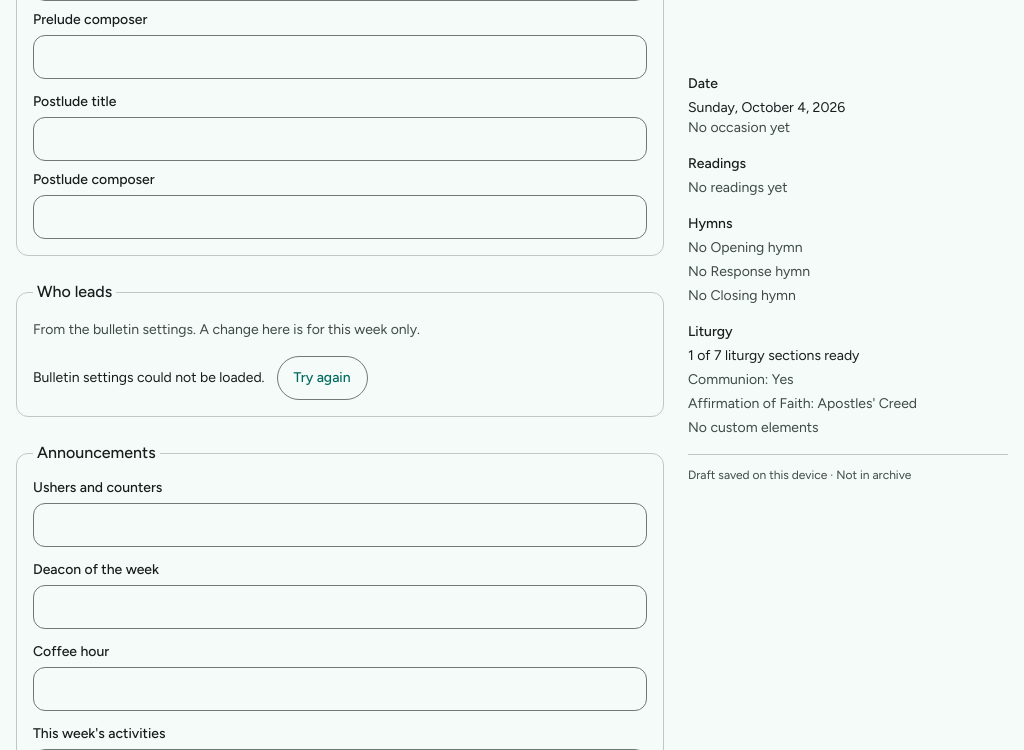
Test case: the Bulletin step (printed bulletin PR 2b) › says so with Try again when the bulletin settings cannot be loaded, and shows no field for who leads
(page scrolled)
Check: the message shows "Bulletin settings could not be loaded.", box [33,369,264,386]
What coordinates should you click on to do the following:
click the button "Try again"
I would click on:
 (322, 378)
Its box is [276,356,368,400].
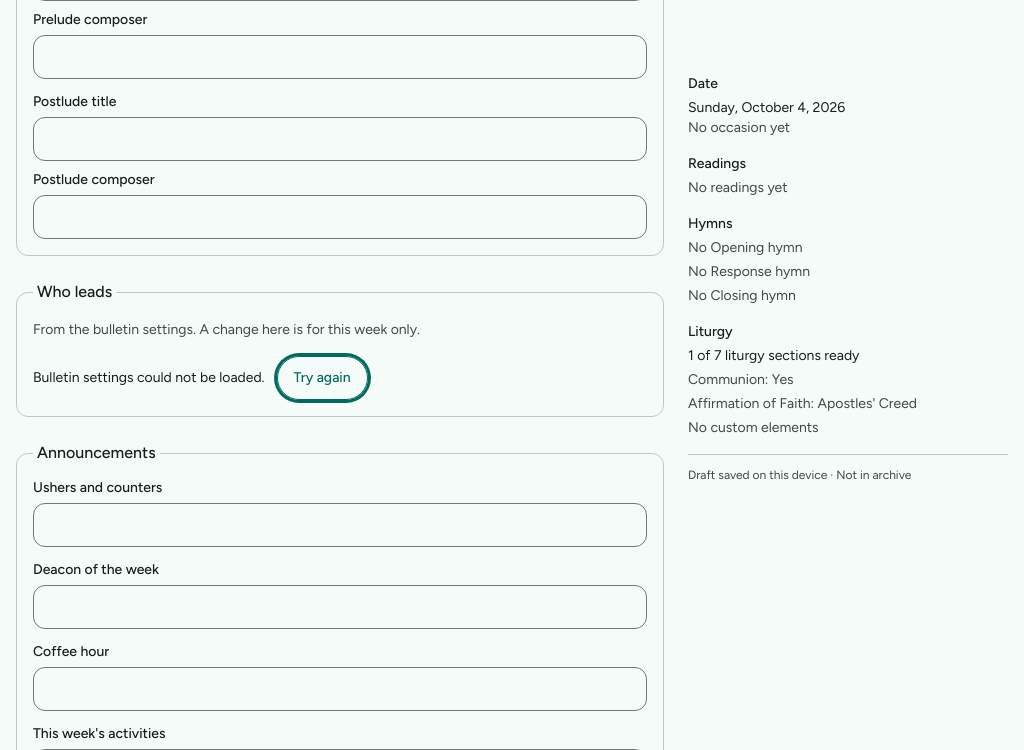
What coordinates should you click on to do the following:
click the button "Try again"
I would click on:
 (322, 378)
Its box is [276,356,368,400].
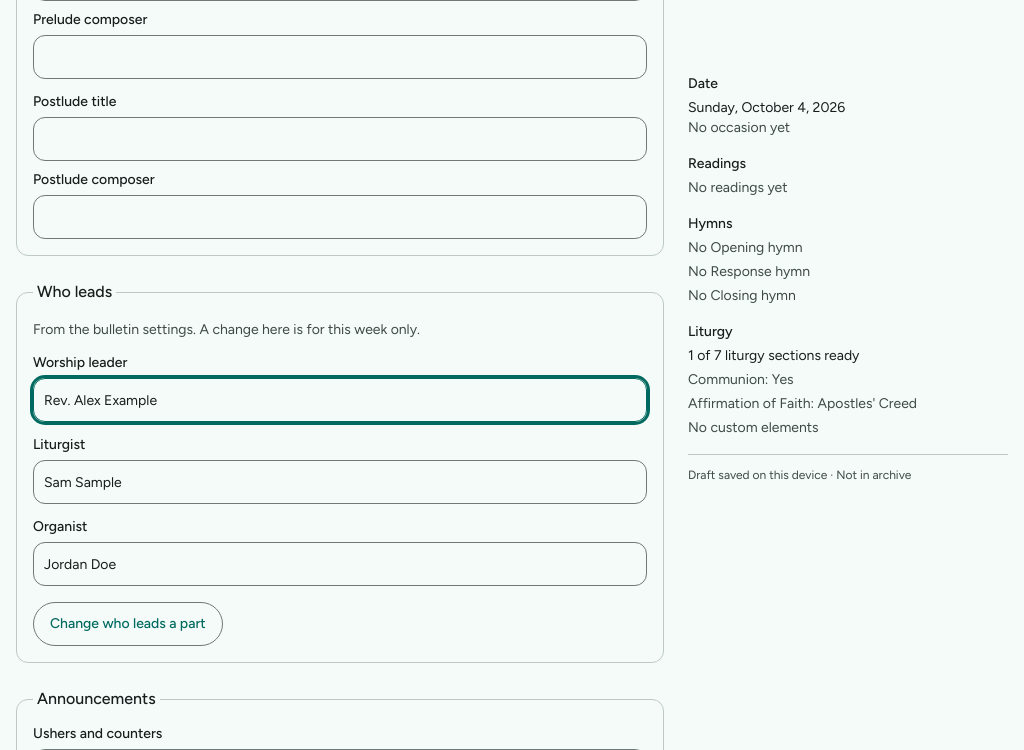
Check: the field labelled "Organist" holds "Jordan Doe", box [33,542,647,586]
